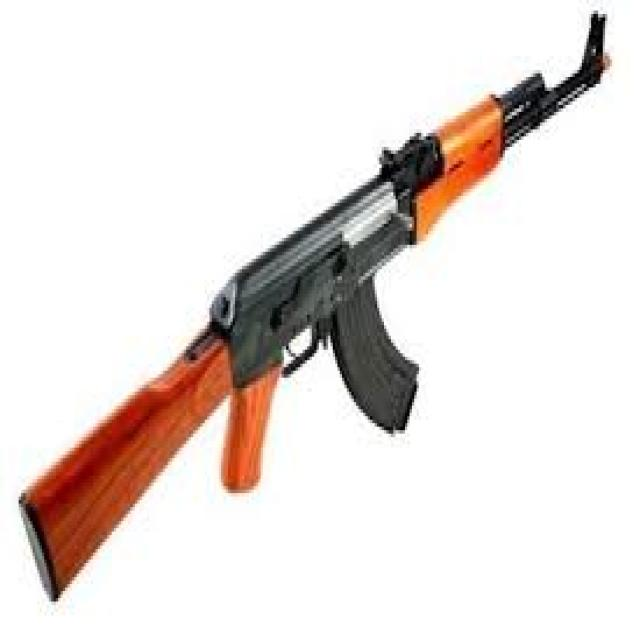rifle: (19, 12, 619, 607)
